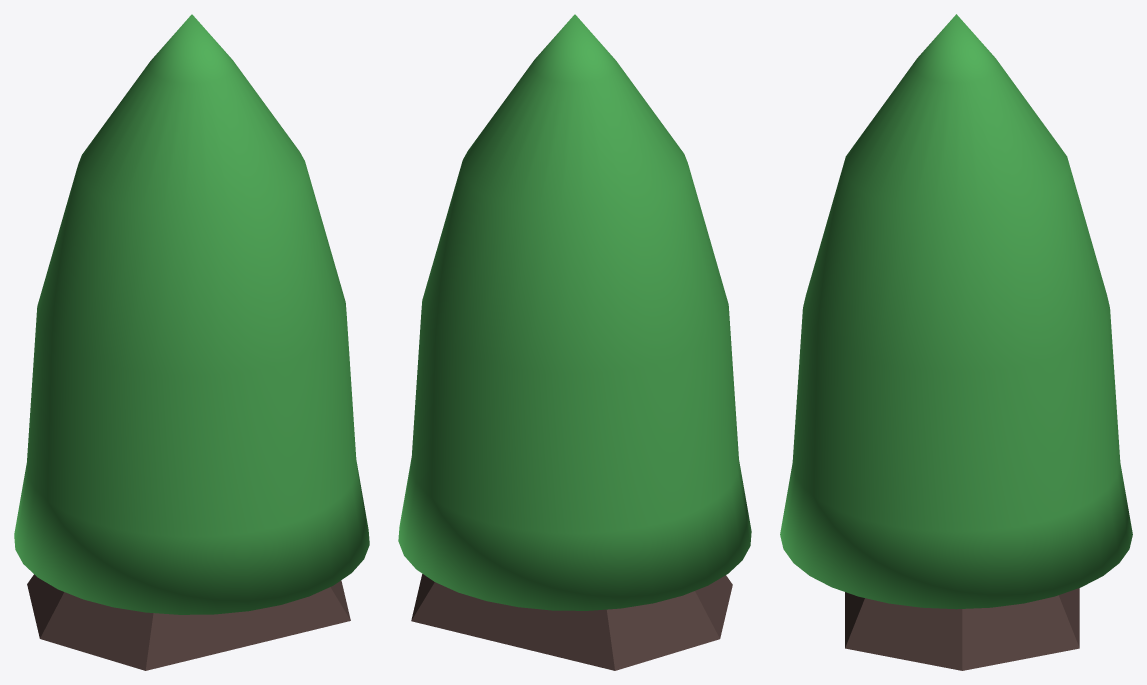
Rendered from Tree 2.fbx.
The picture shows the model from 3 angles, left to right: view 1: azimuth 30°, elevation 25°; view 2: azimuth 150°, elevation 25°; view 3: azimuth 270°, elevation 25°; orthographic projection.
Visible parts, largest first — view 1: Cone.002, Cube.013; view 2: Cone.002, Cube.013; view 3: Cone.002, Cube.013.
Boxes of the visible parts, x1=… form: Cone.002: x1=14, y1=14, x2=369, y2=614; Cube.013: x1=27, y1=574, x2=350, y2=670; Cone.002: x1=398, y1=14, x2=751, y2=610; Cube.013: x1=411, y1=574, x2=732, y2=670; Cone.002: x1=780, y1=14, x2=1132, y2=609; Cube.013: x1=845, y1=588, x2=1079, y2=670.
Bounding box in the file's own units: 300 × 549 × 300.
